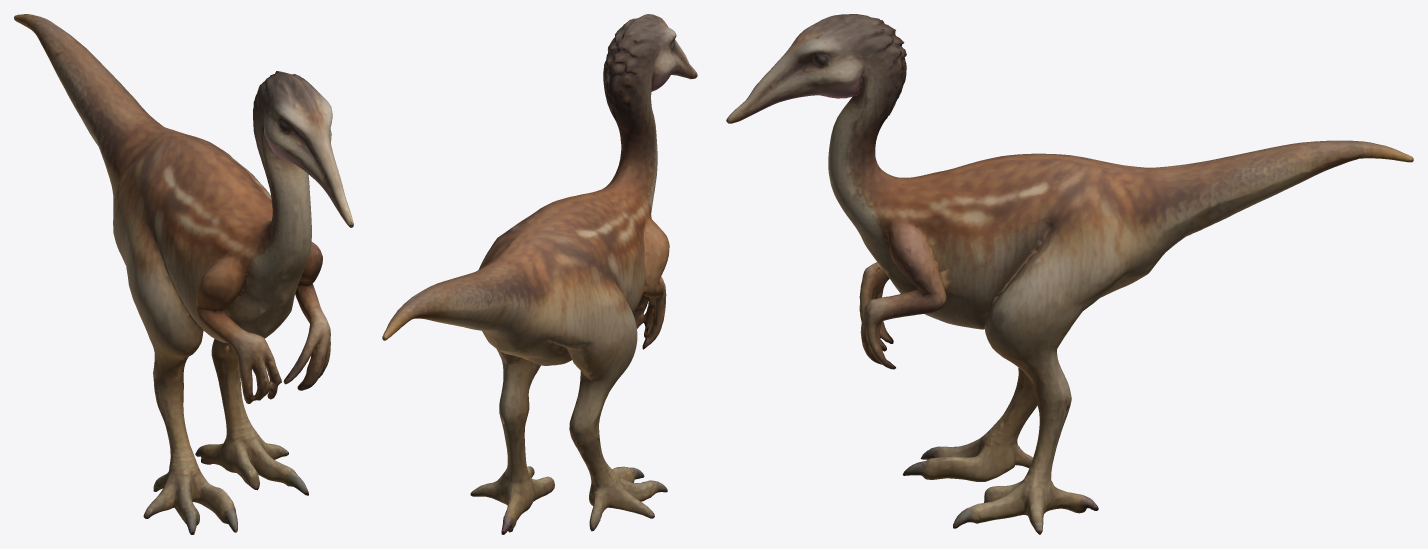
The picture shows the model from 3 angles, left to right: view 1: azimuth 30°, elevation 25°; view 2: azimuth 150°, elevation 25°; view 3: azimuth 270°, elevation 25°; orthographic projection. The views are drawn at different scales.
Parts seen in each view (by area): view 1: geometry_0; view 2: geometry_0; view 3: geometry_0.
Part boxes in pixels (x1=…): geometry_0: x1=14, y1=14, x2=353, y2=534; geometry_0: x1=382, y1=14, x2=697, y2=534; geometry_0: x1=726, y1=14, x2=1413, y2=534.
Size of the model in its own units: 0.6471 by 1.71 by 2.2.
1 material, 1 textured.
